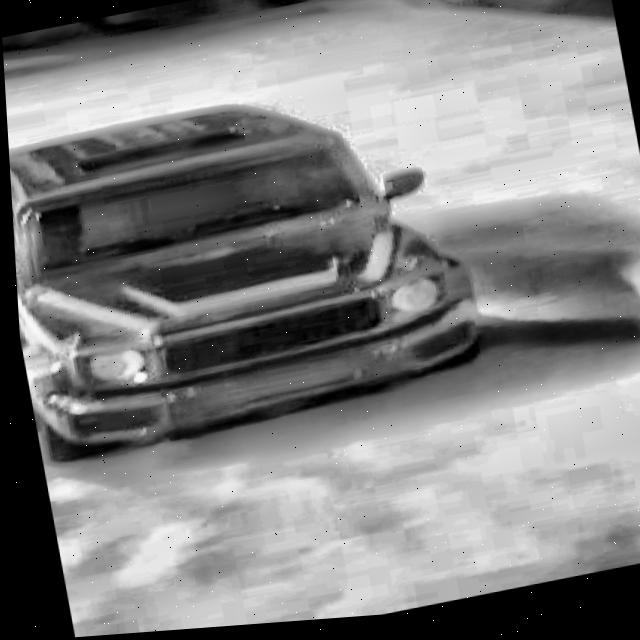light_vehicle: (4, 57, 500, 462)
